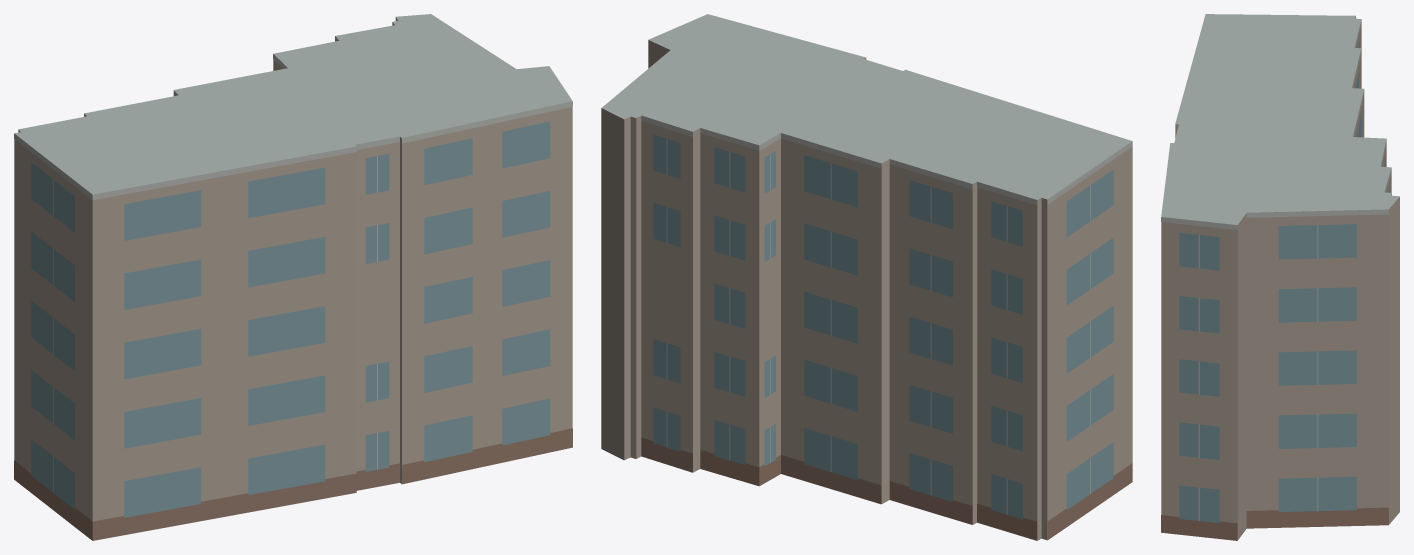
Rendered from survey-upis-32832793.glb.
3 views of the same model, side by side, from view 1: azimuth 30°, elevation 25°; view 2: azimuth 150°, elevation 25°; view 3: azimuth 270°, elevation 25° (orthographic). The views are drawn at different scales.
Visible parts, largest first — view 1: survey-upis-32832793.tmp; view 2: survey-upis-32832793.tmp; view 3: survey-upis-32832793.tmp.
Boxes of the visible parts, <box> form: survey-upis-32832793.tmp: <box>14,14,572,540</box>; survey-upis-32832793.tmp: <box>601,14,1132,540</box>; survey-upis-32832793.tmp: <box>1161,14,1399,540</box>.
Bounding box in the file's own units: 22.02 × 15.35 × 10.53.
